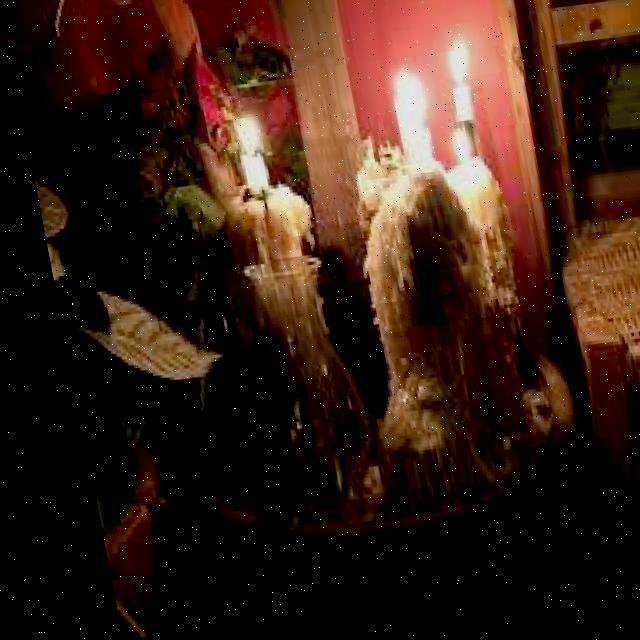Fire: (378, 60, 418, 116), (434, 45, 471, 97), (218, 116, 256, 165)
